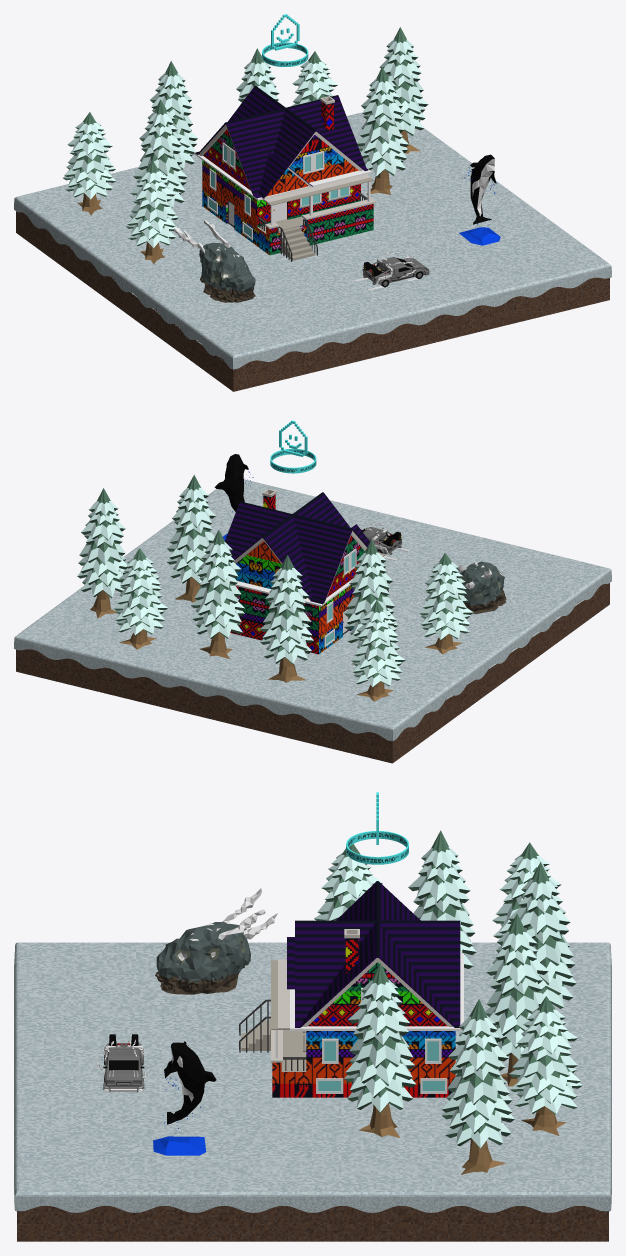
The picture shows the model from 3 angles, top to bottom: view 1: azimuth 30°, elevation 25°; view 2: azimuth 150°, elevation 25°; view 3: azimuth 270°, elevation 25°; orthographic projection. The views are drawn at different scales.
Visible parts, largest first — view 1: Cube.003, Cube.966, OBJRANDOM_METEORITE, ANIMAL_ORCA, VEHICLES_DELOREAN, TYPE_PREMIUM; view 2: Cube.003, Cube.966, OBJRANDOM_METEORITE, ANIMAL_ORCA, TYPE_PREMIUM, VEHICLES_DELOREAN; view 3: Cube.003, Cube.966, OBJRANDOM_METEORITE, ANIMAL_ORCA, VEHICLES_DELOREAN, TYPE_PREMIUM.
Boxes of the visible parts, x1,y1,x2,y2 form: Cube.003: [14, 27, 611, 391]; Cube.966: [194, 85, 376, 261]; OBJRANDOM_METEORITE: [174, 220, 255, 302]; ANIMAL_ORCA: [459, 154, 500, 245]; VEHICLES_DELOREAN: [350, 251, 430, 290]; TYPE_PREMIUM: [262, 14, 308, 66]; Cube.003: [14, 475, 611, 763]; Cube.966: [225, 489, 388, 654]; OBJRANDOM_METEORITE: [456, 561, 506, 613]; ANIMAL_ORCA: [214, 454, 253, 540]; TYPE_PREMIUM: [270, 420, 316, 473]; VEHICLES_DELOREAN: [360, 522, 414, 560]; Cube.003: [14, 830, 611, 1241]; Cube.966: [239, 881, 463, 1097]; OBJRANDOM_METEORITE: [155, 888, 277, 994]; ANIMAL_ORCA: [153, 1041, 216, 1155]; VEHICLES_DELOREAN: [95, 1034, 148, 1092]; TYPE_PREMIUM: [346, 792, 408, 864].
Size of the model in its own units: 4040 by 2467 by 4040.
Materials: 40 (8 with a texture image).
